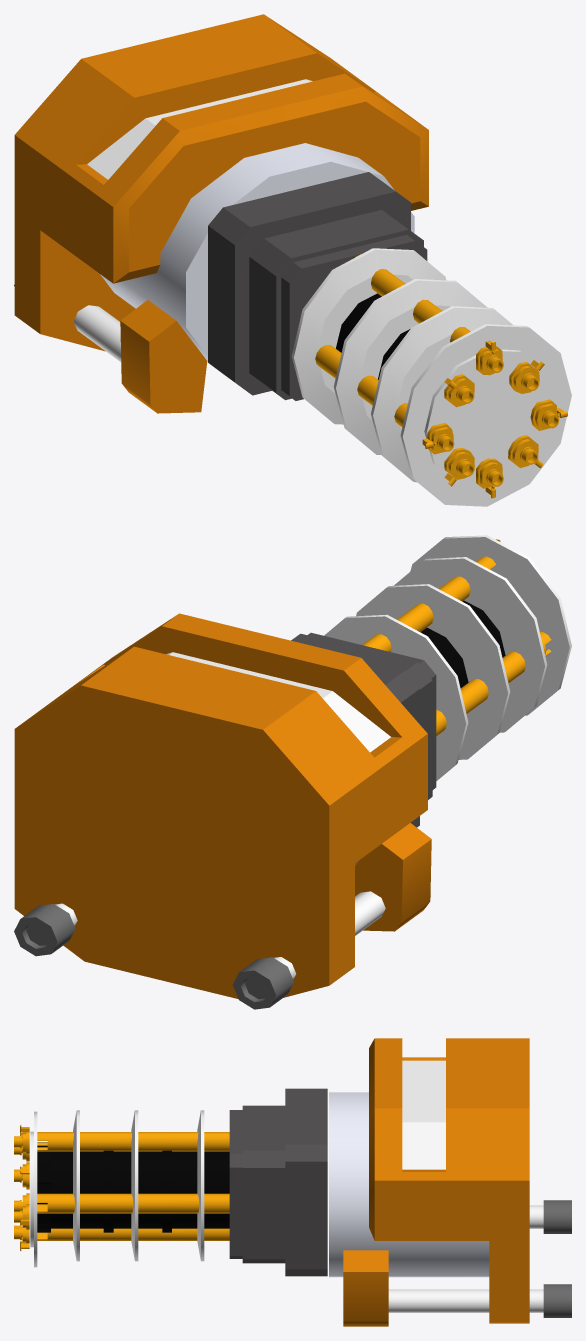
File: AutoCannon4.fbx
3 views of the same model, one above another, from view 1: azimuth 30°, elevation 25°; view 2: azimuth 150°, elevation 25°; view 3: azimuth 270°, elevation 25° (orthographic). The views are drawn at different scales.
Parts seen in each view (by area): view 1: mergedBlocks; view 2: mergedBlocks; view 3: mergedBlocks.
Boxes of the visible parts, bbox=[...] form: mergedBlocks: bbox=[14, 14, 571, 506]; mergedBlocks: bbox=[14, 535, 571, 1009]; mergedBlocks: bbox=[14, 1038, 571, 1326].
Bounding box in the file's own units: 57.5 × 48.05 × 112.
